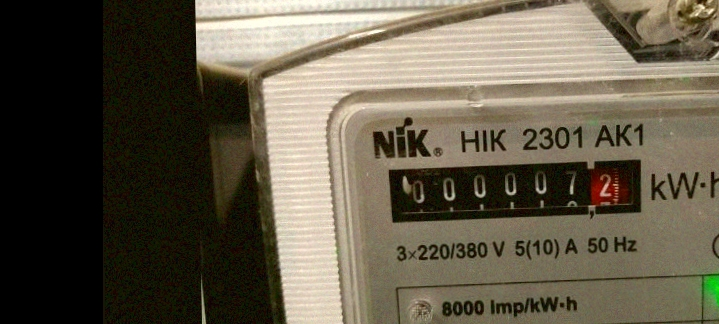0: (441, 174, 458, 203), (471, 172, 489, 199), (533, 167, 549, 196), (410, 177, 427, 204), (503, 169, 518, 196)
2: (598, 170, 614, 199)
7: (563, 168, 579, 197)
screen: (380, 150, 655, 228)
